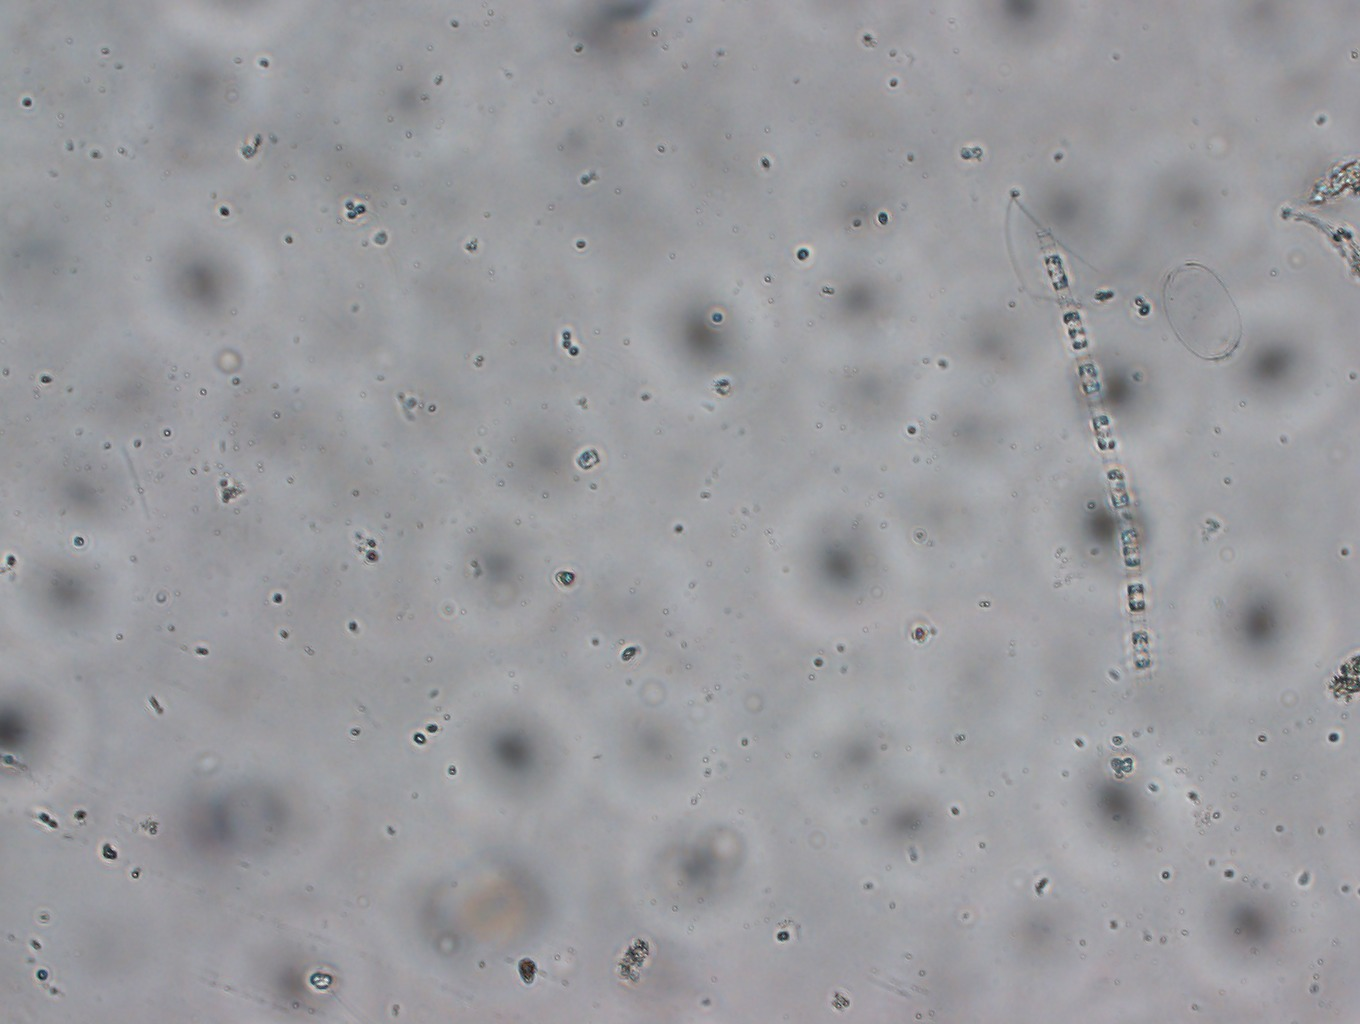bacteriastrum: (1030, 241, 1166, 683)
